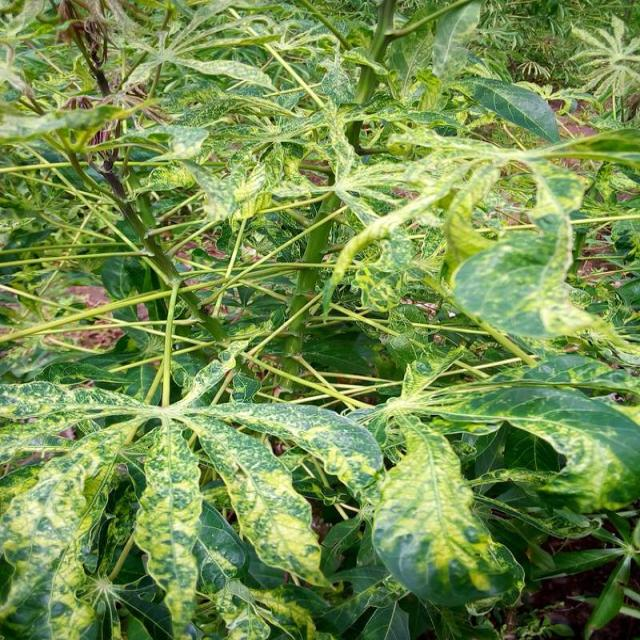cassava leaf: (372, 413, 526, 608)
